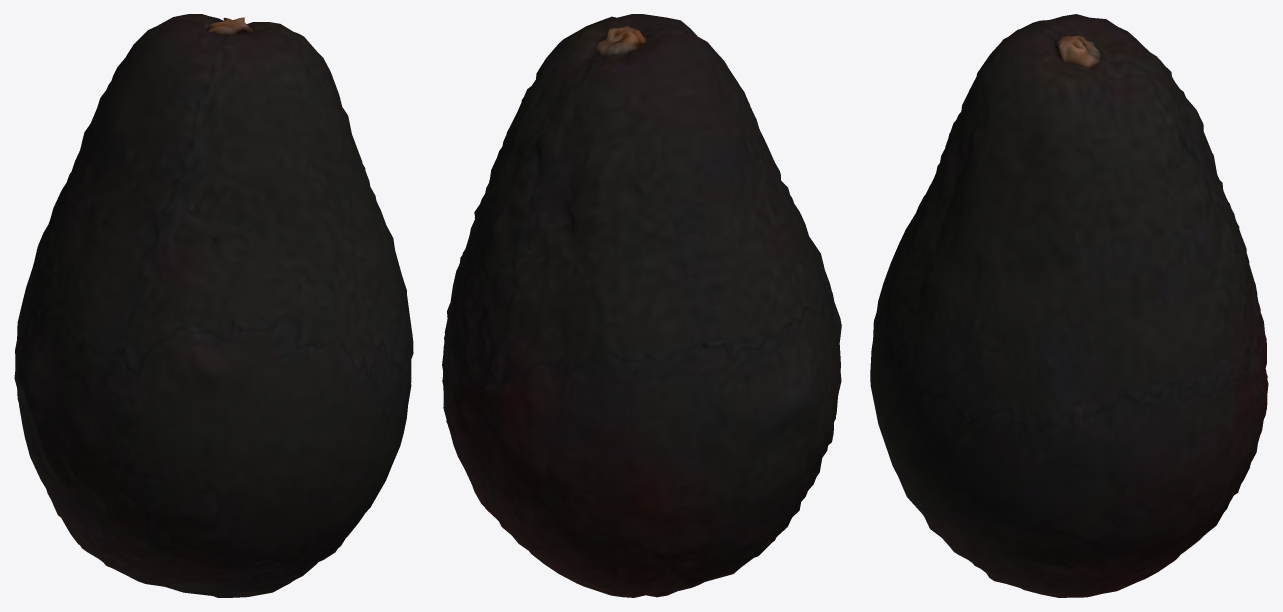
The model's file is food_avocado_01.glb.
The picture shows the model from 3 angles, left to right: view 1: azimuth 30°, elevation 25°; view 2: azimuth 150°, elevation 25°; view 3: azimuth 270°, elevation 25°; orthographic projection. The views are drawn at different scales.
Parts seen in each view (by area): view 1: food_avocado_01; view 2: food_avocado_01; view 3: food_avocado_01.
Boxes of the visible parts, x1,y1,x2,y2 form: food_avocado_01: [14, 14, 413, 597]; food_avocado_01: [442, 14, 841, 597]; food_avocado_01: [870, 14, 1268, 597].
Size of the model in its own units: 0.0952 by 0.1432 by 0.0946.
1 material, 1 textured.
